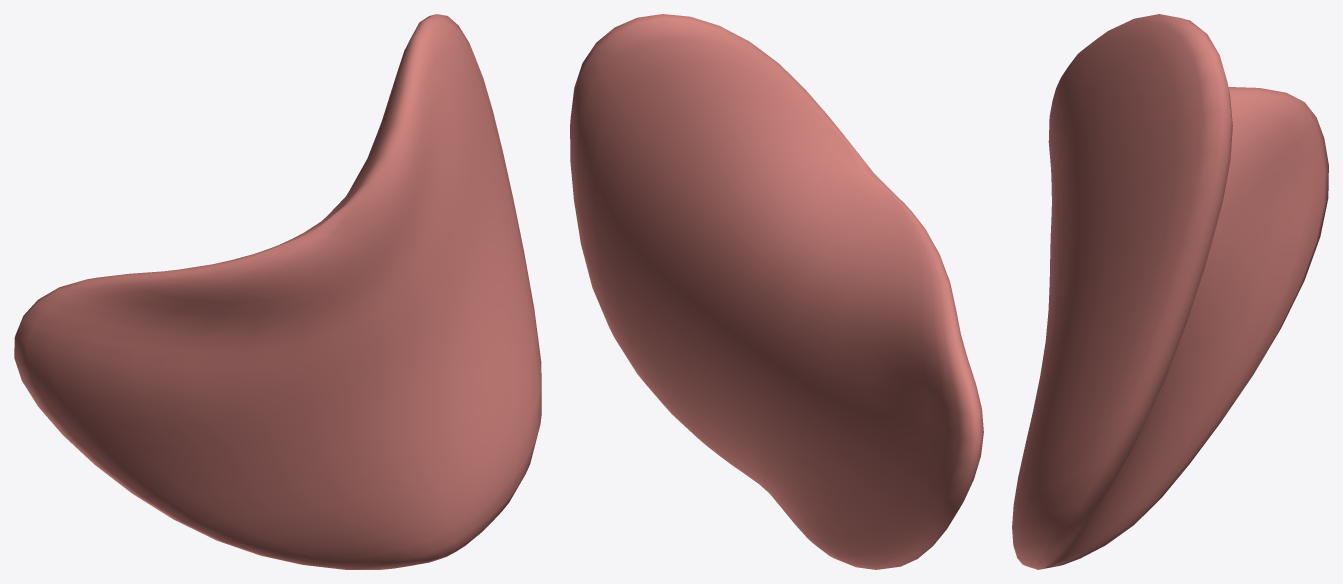
3 views of the same model, side by side, from view 1: azimuth 30°, elevation 25°; view 2: azimuth 150°, elevation 25°; view 3: azimuth 270°, elevation 25° (orthographic). The views are drawn at different scales.
Visible parts, largest first — view 1: ZA_86ae43c2fe6bd631; view 2: ZA_86ae43c2fe6bd631; view 3: ZA_86ae43c2fe6bd631.
Part boxes in pixels (box(x1,y1,x2,y2)): ZA_86ae43c2fe6bd631: box(14, 14, 541, 569); ZA_86ae43c2fe6bd631: box(570, 14, 983, 569); ZA_86ae43c2fe6bd631: box(1012, 14, 1328, 569).
Bounding box in the file's own units: 0.02 × 0.0215 × 0.0104.
